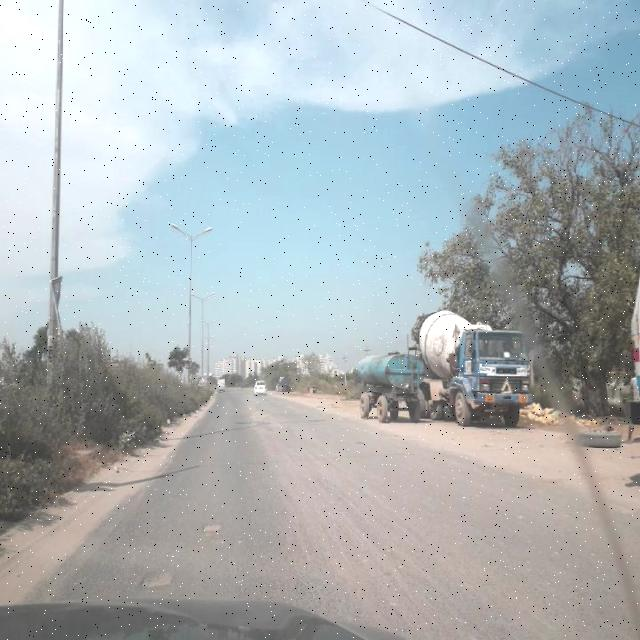D20: (228, 525, 383, 611)
D40: (134, 565, 180, 591), (189, 516, 235, 542), (244, 406, 290, 432)
